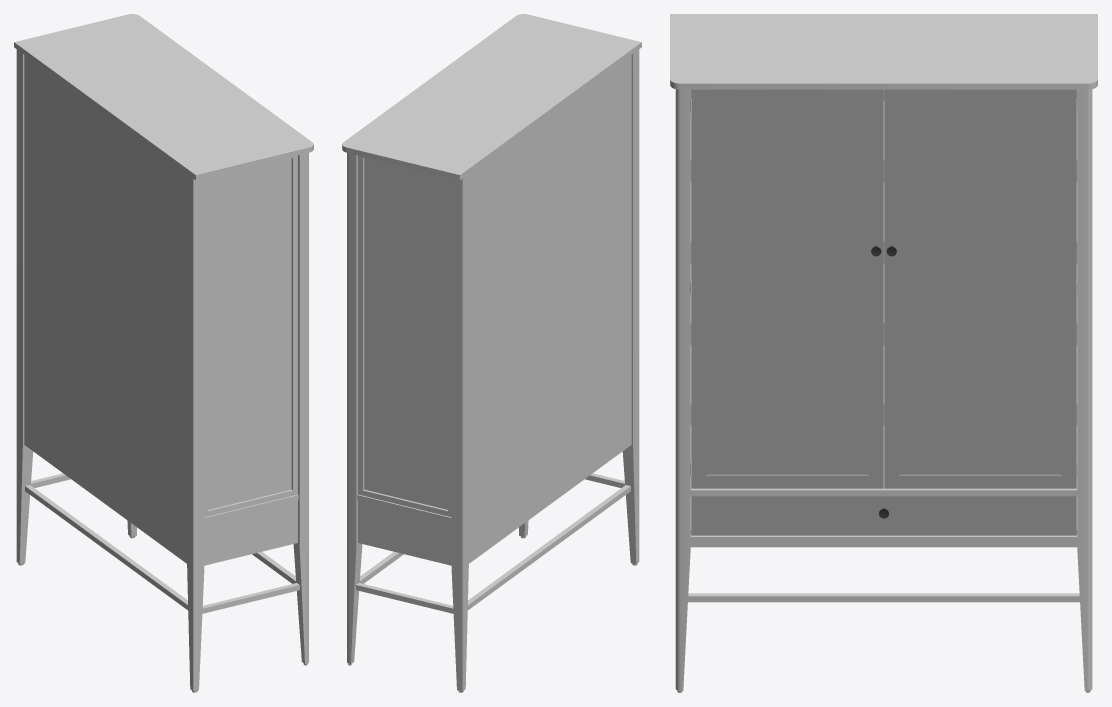
The model's file is Cabinet.fbx.
3 renders of one model, left to right at view 1: azimuth 30°, elevation 25°; view 2: azimuth 150°, elevation 25°; view 3: azimuth 270°, elevation 25°, orthographic. The views are drawn at different scales.
Visible parts, largest first — view 1: Structure; view 2: Structure; view 3: Right door, Left door, Structure, Drawer.
Boxes of the visible parts, x1=… form: Structure: x1=14, y1=14, x2=313, y2=692; Structure: x1=342, y1=14, x2=641, y2=692; Right door: x1=884, y1=89, x2=1076, y2=488; Left door: x1=691, y1=89, x2=883, y2=488; Structure: x1=670, y1=14, x2=1097, y2=692; Drawer: x1=691, y1=496, x2=1076, y2=535.
Size of the model in its own units: 44 by 180 by 114.
2 materials, 1 textured.
